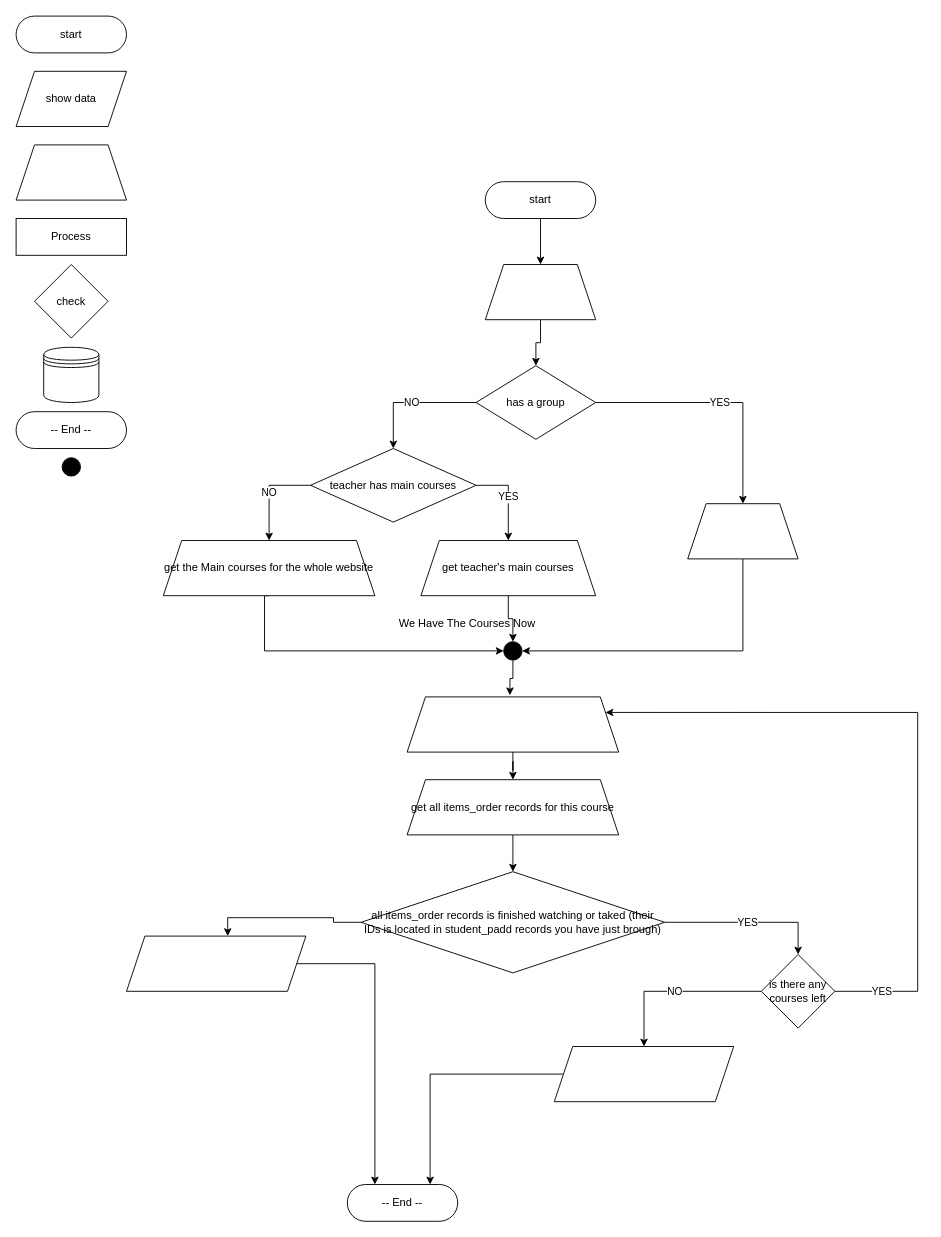
Image size: 941x1237. Some labels were removed from this diagram. Each missing label, with the centre of its shape:
get all student_pass records for this student: point 512,724
get group's path courses: point 742,531
get info: point 70,172
storage: point 71,374
student_id: point 540,292
this is current course: point 216,963
this student have finished all courses: point 643,1074
